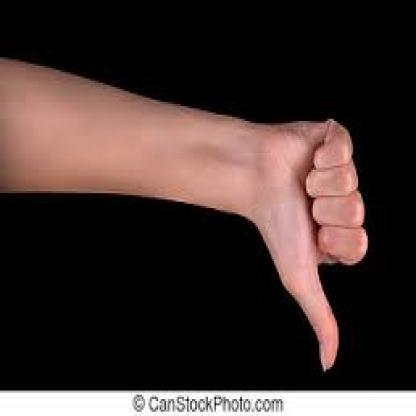thumb_down: (258, 112, 368, 376)
